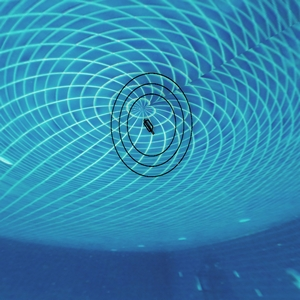submarine: (142, 118, 154, 133)
